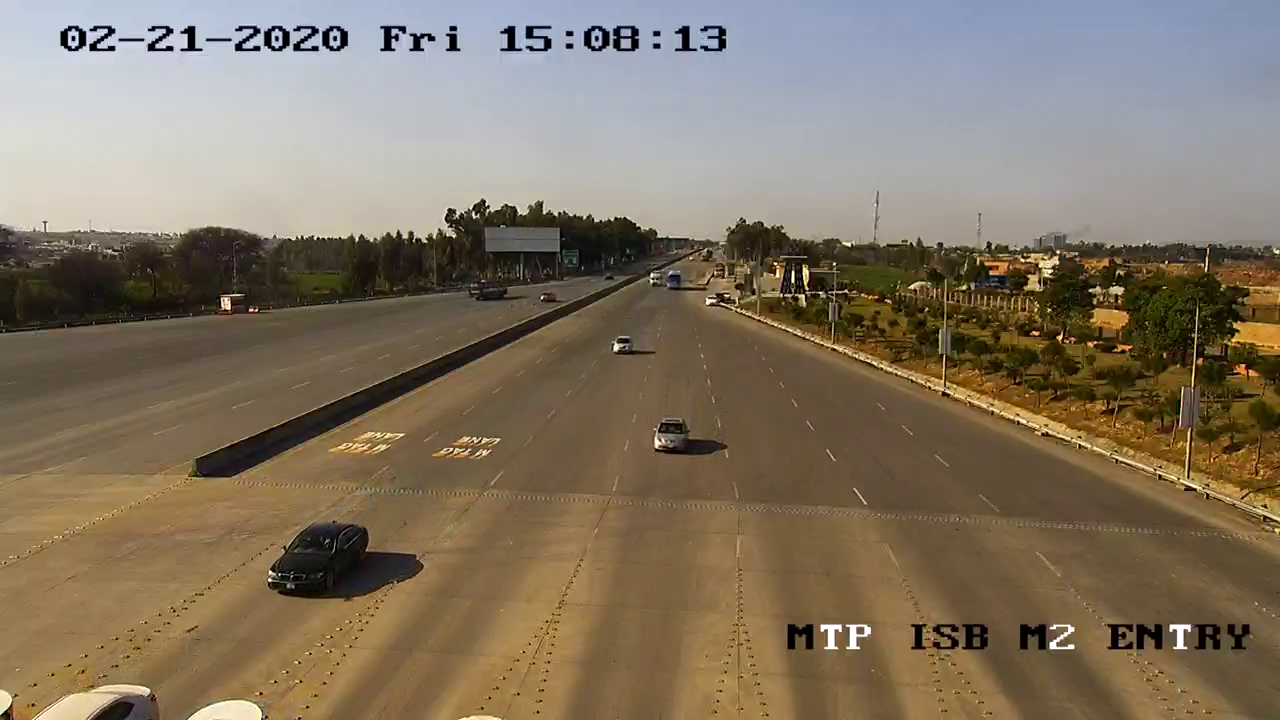f1: (259, 506, 377, 604), (643, 410, 703, 464)
